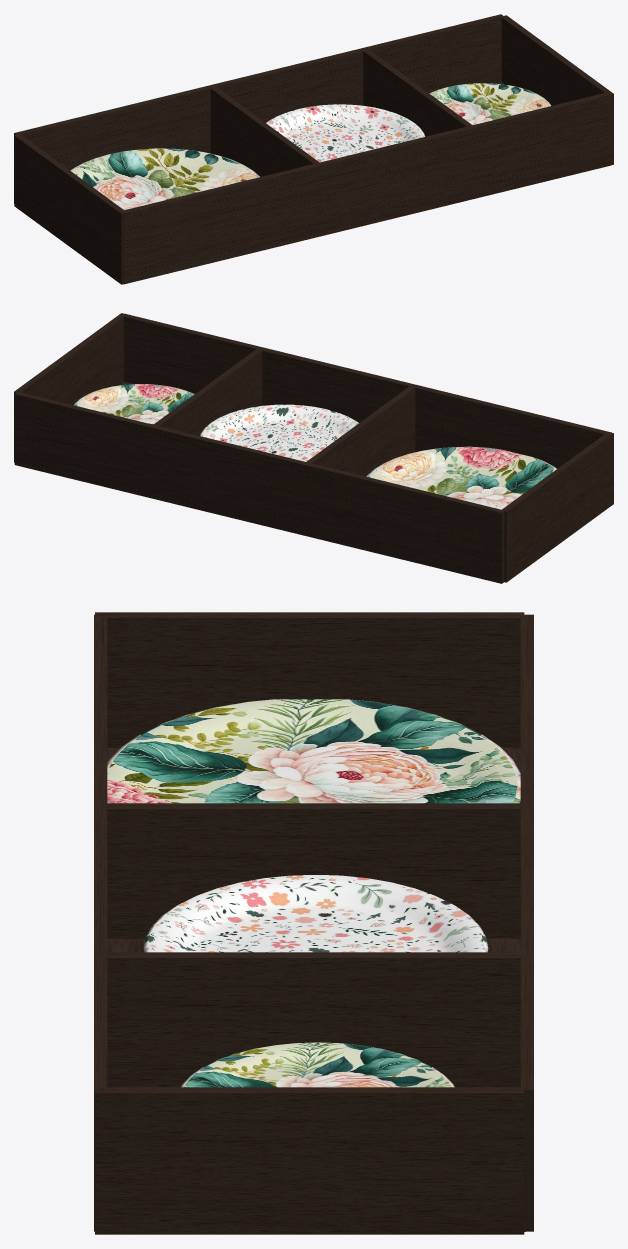
Rendered from Plate displayer.fbx.
3 renders of one model, top to bottom at view 1: azimuth 30°, elevation 25°; view 2: azimuth 150°, elevation 25°; view 3: azimuth 270°, elevation 25°, orthographic. The views are drawn at different scales.
Parts seen in each view (by area): view 1: pCube3, pCube2, pCube7, pCylinder8, pCylinder7, pCube5, pCube6, pCube4, pCylinder6; view 2: pCube2, pCube3, pCube7, pCylinder8, pCylinder7, pCube5, pCube6, pCube4, pCylinder6; view 3: pCube5, pCube4, pCube7, pCube6, pCylinder8, pCylinder7, pCylinder6, pCube2, pCube3, pCube1.
Boxes of the visible parts, x1,y1,x2,y2 form: pCube3: (121,93,611,284); pCube2: (14,14,503,203); pCube7: (14,134,126,284); pCylinder8: (70,148,259,210); pCylinder7: (266,104,425,162); pCube5: (501,15,613,165); pCube6: (210,87,322,176); pCube4: (363,49,475,136); pCylinder6: (429,83,551,125); pCube2: (14,392,504,583); pCube3: (122,313,611,468); pCube7: (501,433,613,582); pCylinder8: (366,446,556,509); pCylinder7: (200,404,358,461); pCube5: (14,313,125,462); pCube6: (306,386,415,476); pCube4: (152,348,264,435); pCylinder6: (74,384,194,424); pCube5: (95,1087,524,1234); pCube4: (95,952,524,1087); pCube7: (95,612,524,747); pCube6: (95,803,524,938); pCylinder8: (107,699,520,803); pCylinder7: (143,875,488,952); pCylinder6: (181,1042,454,1087); pCube2: (520,614,533,1231); pCube3: (94,614,107,1231); pCube1: (107,747,525,1231).
Bounding box in the file's own units: 11.04 × 1.52 × 4.28.
